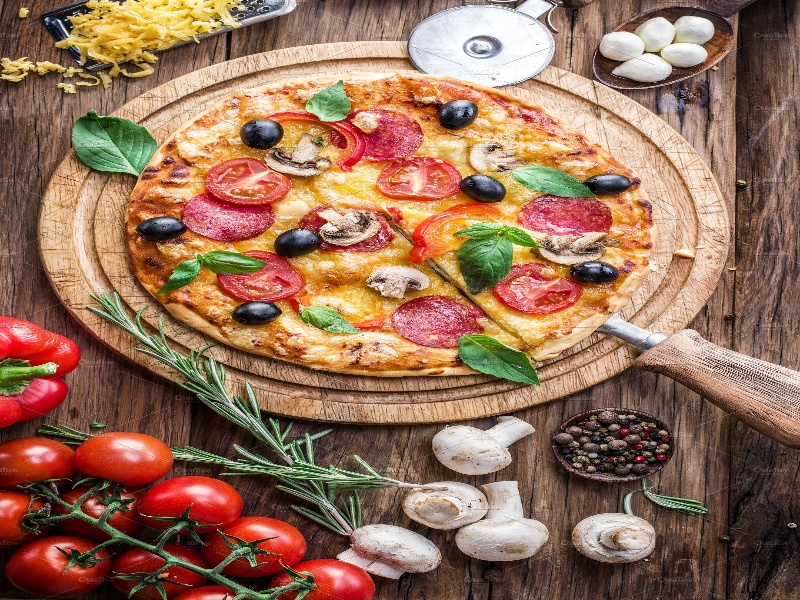olive noir: (133, 210, 191, 243), (261, 228, 328, 255), (574, 167, 634, 196), (459, 170, 505, 204), (239, 113, 285, 146), (438, 98, 481, 132), (569, 258, 619, 287), (236, 299, 288, 325)
pepperonis: (527, 187, 617, 239), (389, 296, 486, 342)
